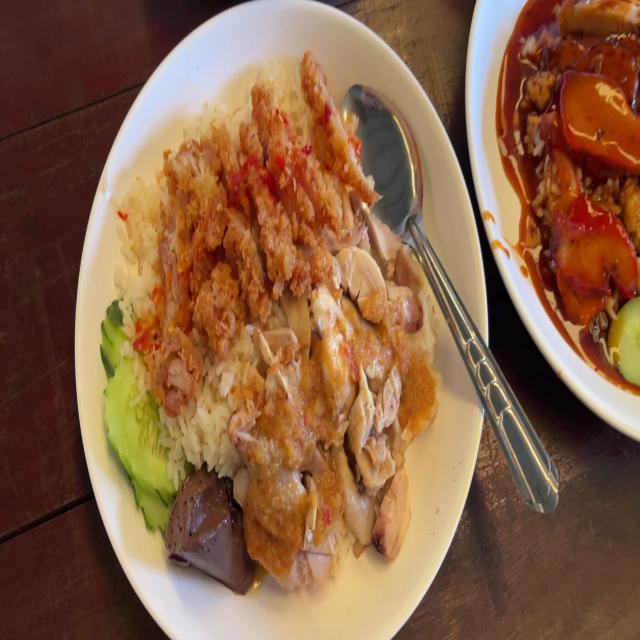chicken_rice: (232, 248, 433, 552)
noodle: (168, 459, 244, 588)
stir_fried_basil: (561, 27, 640, 99)
